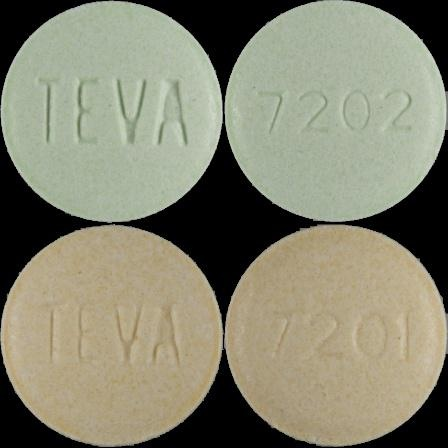54458-925: (0, 0, 224, 224)
